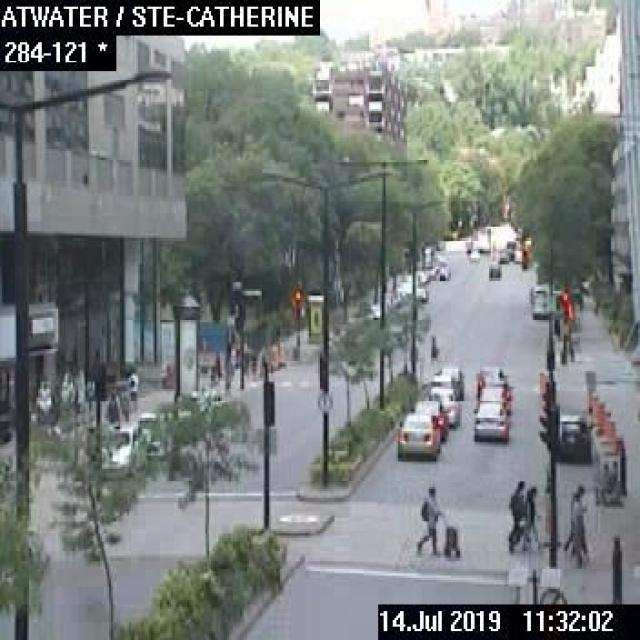pedestrian: (413, 480, 458, 558), (562, 480, 587, 564), (504, 476, 525, 551), (524, 483, 538, 550)
vehicle: (100, 422, 146, 470), (396, 412, 439, 460), (553, 411, 591, 460), (409, 398, 448, 440), (472, 401, 507, 441), (427, 384, 459, 427), (434, 365, 464, 397), (477, 385, 507, 411), (480, 372, 508, 396), (429, 373, 455, 397), (474, 365, 502, 383), (532, 297, 549, 318), (528, 284, 545, 300), (413, 285, 428, 301), (436, 263, 449, 279), (486, 263, 501, 276)
